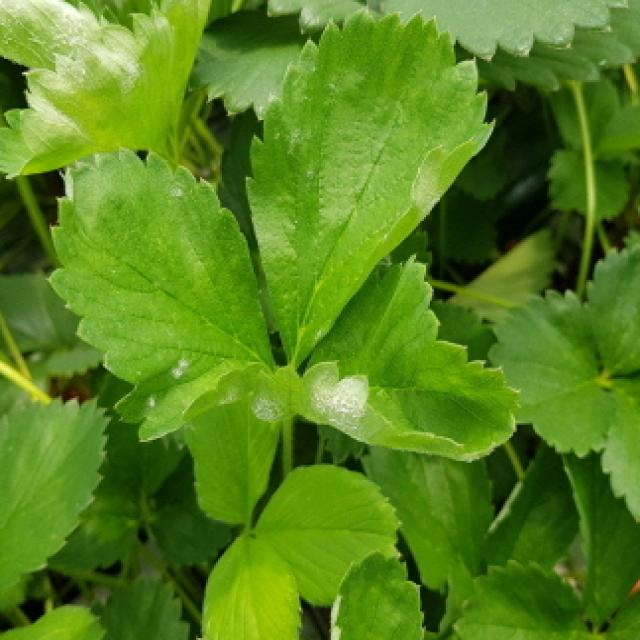Powdery Mildew Leaf: (47, 148, 276, 443), (249, 254, 524, 465), (0, 0, 211, 179), (328, 550, 424, 640)
